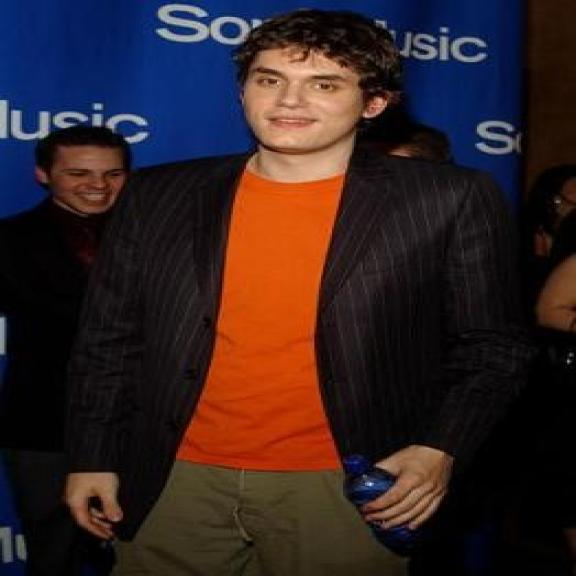face: (247, 49, 401, 157), (26, 143, 133, 218)
